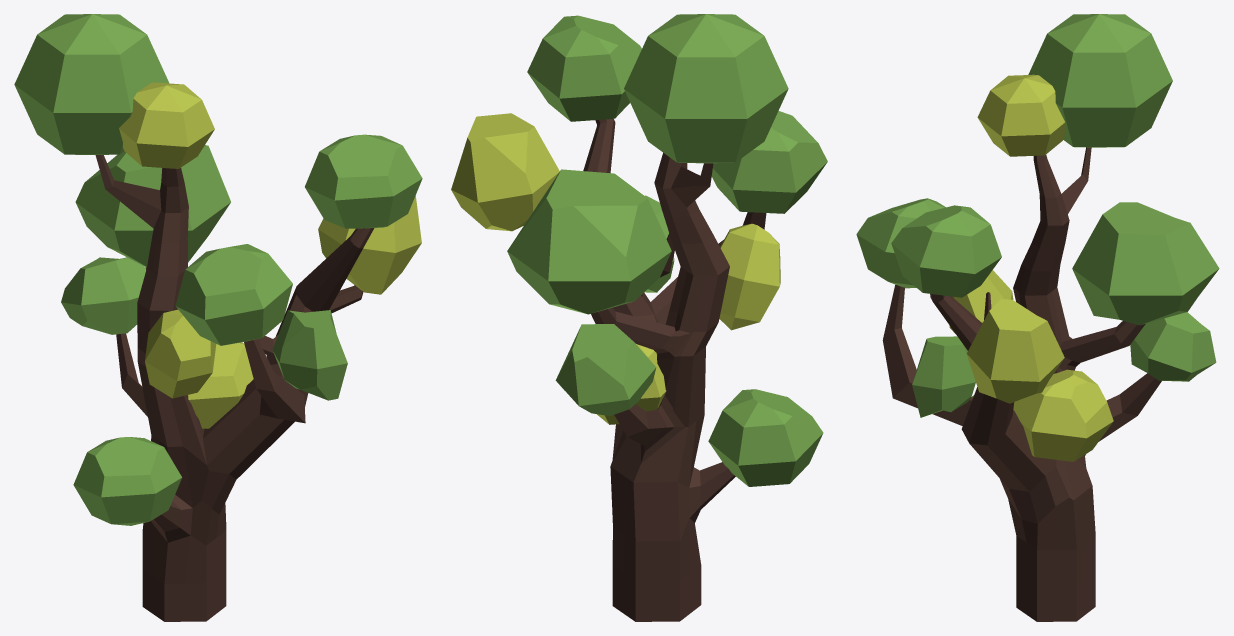
Rendered from New_Tree_4.fbx.
The picture shows the model from 3 angles, left to right: view 1: azimuth 30°, elevation 25°; view 2: azimuth 150°, elevation 25°; view 3: azimuth 270°, elevation 25°; orthographic projection. The views are drawn at different scales.
Parts seen in each view (by area): view 1: Cylinder.007, Sphere, Sphere.006, Sphere.009, Sphere.001, Sphere.008, Sphere.005, Sphere.004, Sphere.002, Sphere.007, Sphere.003, Sphere.010; view 2: Cylinder.007, Sphere, Sphere.001, Sphere.003, Sphere.009, Sphere.008, Sphere.006, Sphere.002, Sphere.007, Sphere.010, Sphere.004; view 3: Cylinder.007, Sphere, Sphere.001, Sphere.009, Sphere.003, Sphere.010, Sphere.005, Sphere.002, Sphere.004, Sphere.006, Sphere.007.
Boxes of the visible parts, x1,y1,x2,y2 form: Cylinder.007: [95, 155, 374, 621]; Sphere: [14, 14, 168, 154]; Sphere.006: [175, 244, 292, 345]; Sphere.009: [305, 134, 422, 228]; Sphere.001: [75, 145, 230, 267]; Sphere.008: [73, 437, 181, 525]; Sphere.005: [119, 82, 214, 168]; Sphere.004: [272, 310, 347, 400]; Sphere.002: [61, 257, 145, 334]; Sphere.007: [145, 309, 216, 398]; Sphere.003: [318, 195, 421, 294]; Sphere.010: [188, 342, 253, 428]; Cylinder.007: [583, 119, 766, 621]; Sphere: [624, 14, 788, 163]; Sphere.001: [507, 169, 671, 314]; Sphere.003: [451, 113, 559, 231]; Sphere.009: [527, 15, 641, 121]; Sphere.008: [708, 389, 823, 486]; Sphere.006: [711, 111, 827, 213]; Sphere.002: [555, 324, 656, 415]; Sphere.007: [719, 223, 780, 330]; Sphere.010: [596, 344, 666, 424]; Sphere.004: [644, 195, 674, 292]; Cylinder.007: [882, 147, 1161, 621]; Sphere: [1028, 14, 1172, 147]; Sphere.001: [1072, 202, 1219, 325]; Sphere.009: [891, 205, 1001, 297]; Sphere.003: [966, 299, 1064, 403]; Sphere.010: [1013, 369, 1113, 461]; Sphere.005: [977, 74, 1065, 156]; Sphere.002: [1130, 312, 1216, 381]; Sphere.004: [912, 336, 975, 417]; Sphere.006: [856, 198, 945, 288]; Sphere.007: [949, 270, 1013, 333].
Bounding box in the file's own units: 491 × 840 × 493.
